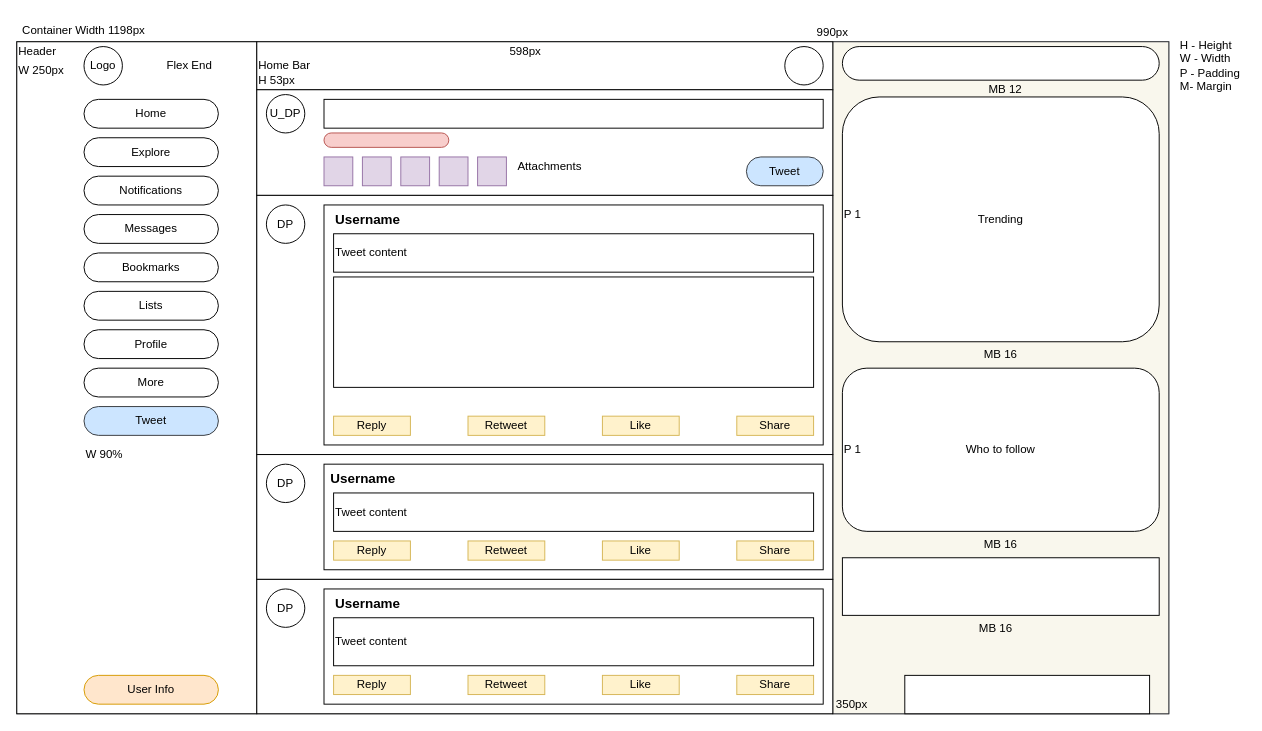
Some shapes in this 1262 by 731 pixel diagram are drawn without their labels. Here are the shapes that lost their labels. From the top down, the centre of each, then its label:
point (803, 65): Top T
point (1000, 63): search bar
point (573, 113): Input box
point (386, 139): Tweet reach
point (1000, 586): Links
point (1027, 694): Chat box
